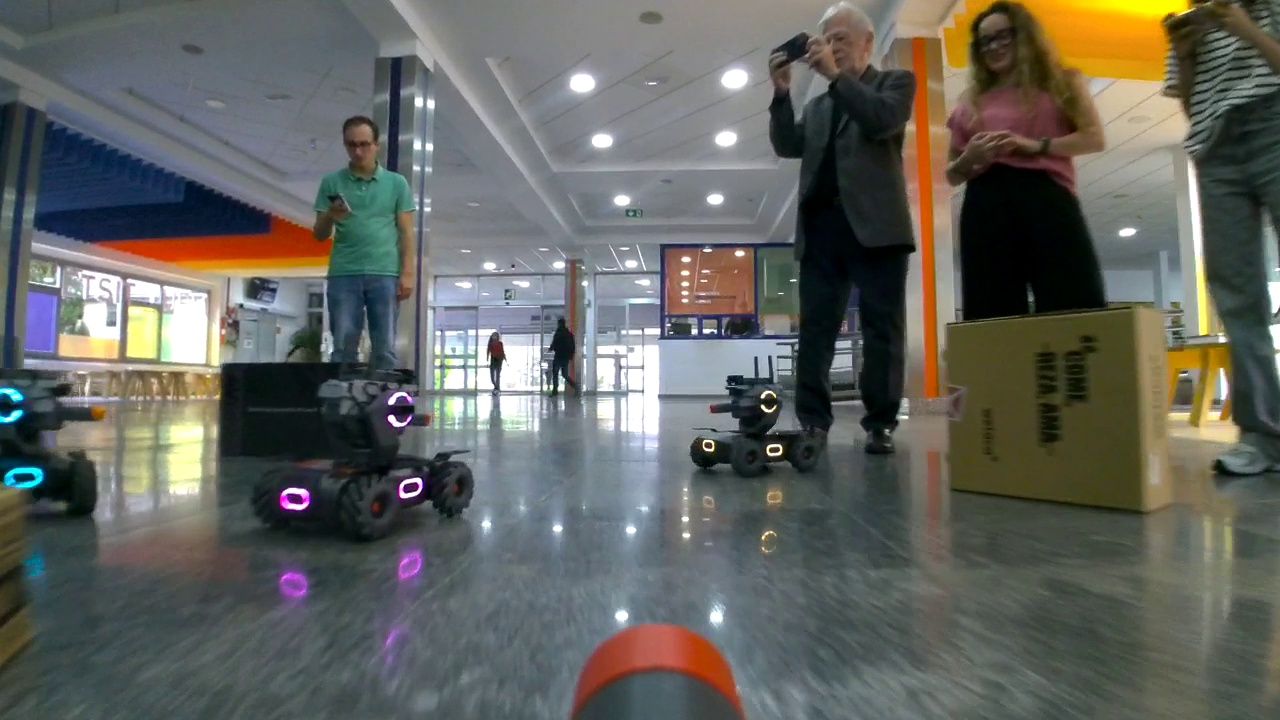robot: (249, 366, 476, 548), (688, 370, 823, 481)
